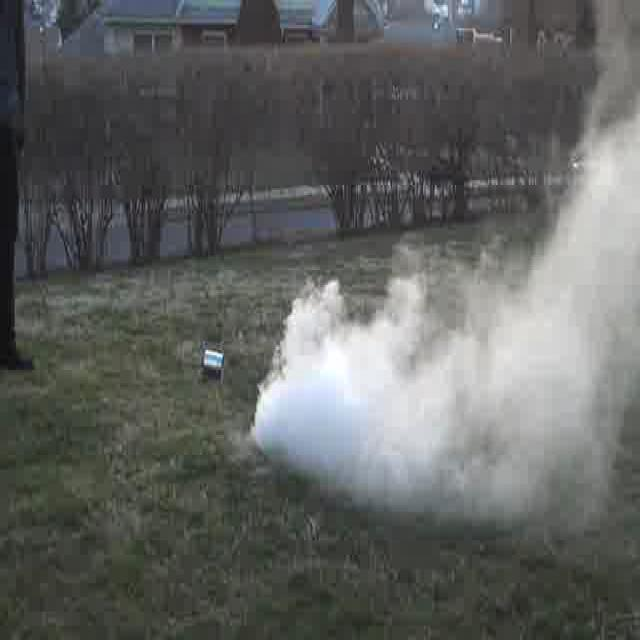Smoke: (277, 286, 616, 498)
